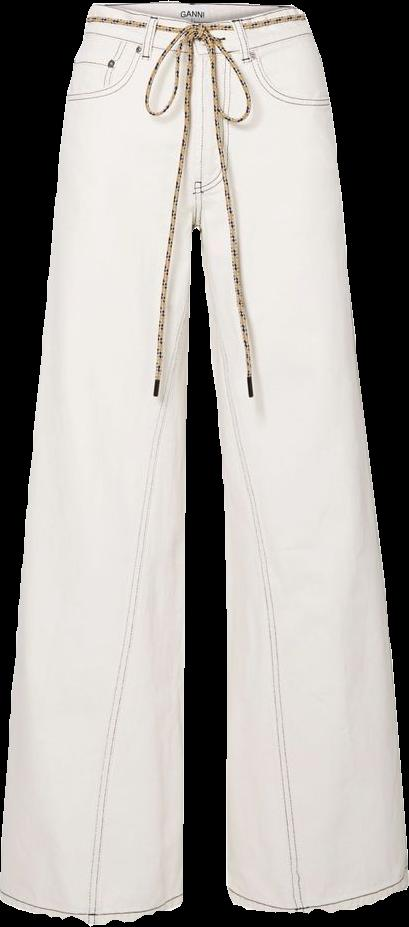Hemline: (224, 880, 408, 916), (0, 888, 181, 921)
Pantleg: (187, 1, 408, 912), (0, 2, 201, 923)
Waistline: (78, 25, 311, 58), (91, 3, 298, 29)
